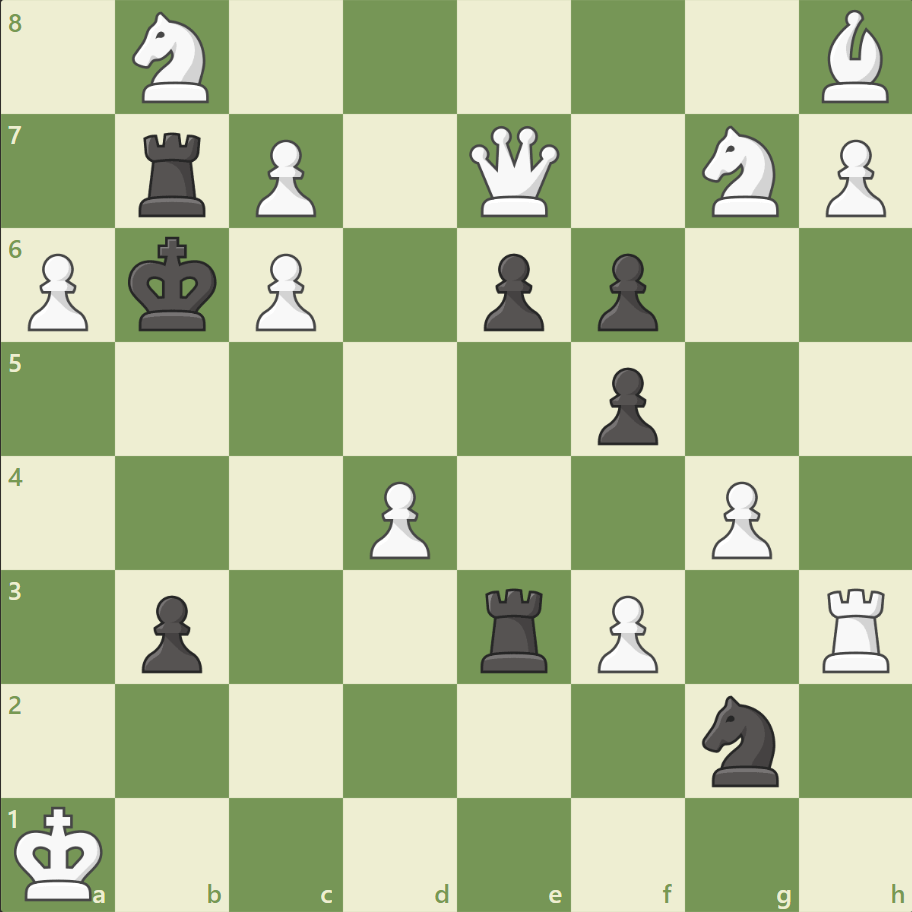B: (812, 6, 896, 109)
K: (11, 798, 111, 906)
N: (124, 7, 222, 110), (692, 121, 789, 223)
P: (247, 132, 322, 223), (20, 246, 95, 337), (247, 246, 322, 337), (701, 473, 776, 564), (815, 132, 889, 223), (361, 473, 435, 564), (588, 586, 662, 677)
Q: (464, 122, 563, 222)
R: (814, 579, 897, 676)
k: (124, 231, 224, 339)
n: (692, 688, 789, 791)
p: (474, 246, 549, 337), (133, 586, 208, 677), (588, 246, 662, 337), (588, 359, 662, 450)
r: (473, 579, 556, 676), (133, 125, 215, 222)
